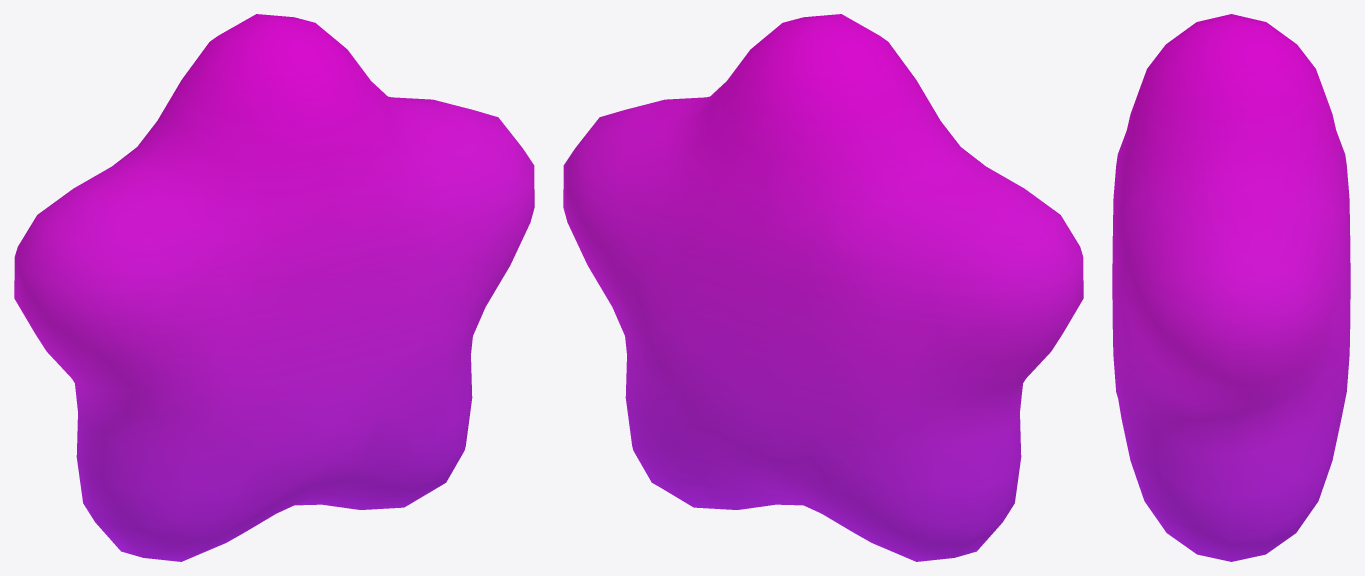
Rendered from Gem_05.glb.
The picture shows the model from 3 angles, left to right: view 1: azimuth 30°, elevation 25°; view 2: azimuth 150°, elevation 25°; view 3: azimuth 270°, elevation 25°; orthographic projection. The views are drawn at different scales.
Visible parts, largest first — view 1: Gem_05; view 2: Gem_05; view 3: Gem_05.
Part boxes in pixels (<box>): Gem_05: <box>14,14,534,561</box>; Gem_05: <box>563,14,1083,561</box>; Gem_05: <box>1112,14,1350,561</box>.
Size of the model in its own units: 1.18 by 1.16 by 0.516.
Materials: 1 (1 with a texture image).
